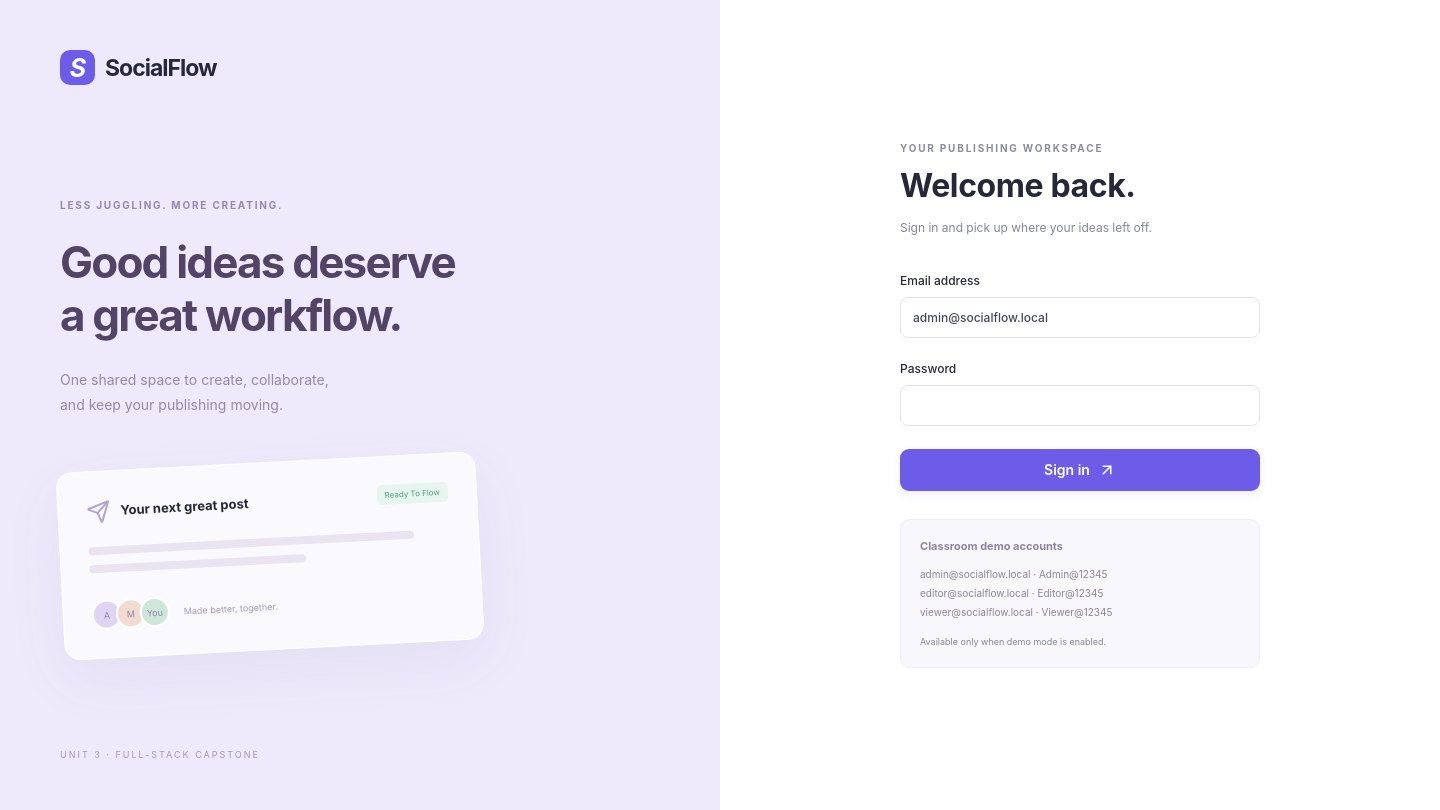
Test: Dashboard workflows › renders calendar, analytics and team navigation
In the password field labelled "Password": (1080, 405) 900,385 -> 1260,426, type "Admin@12345"
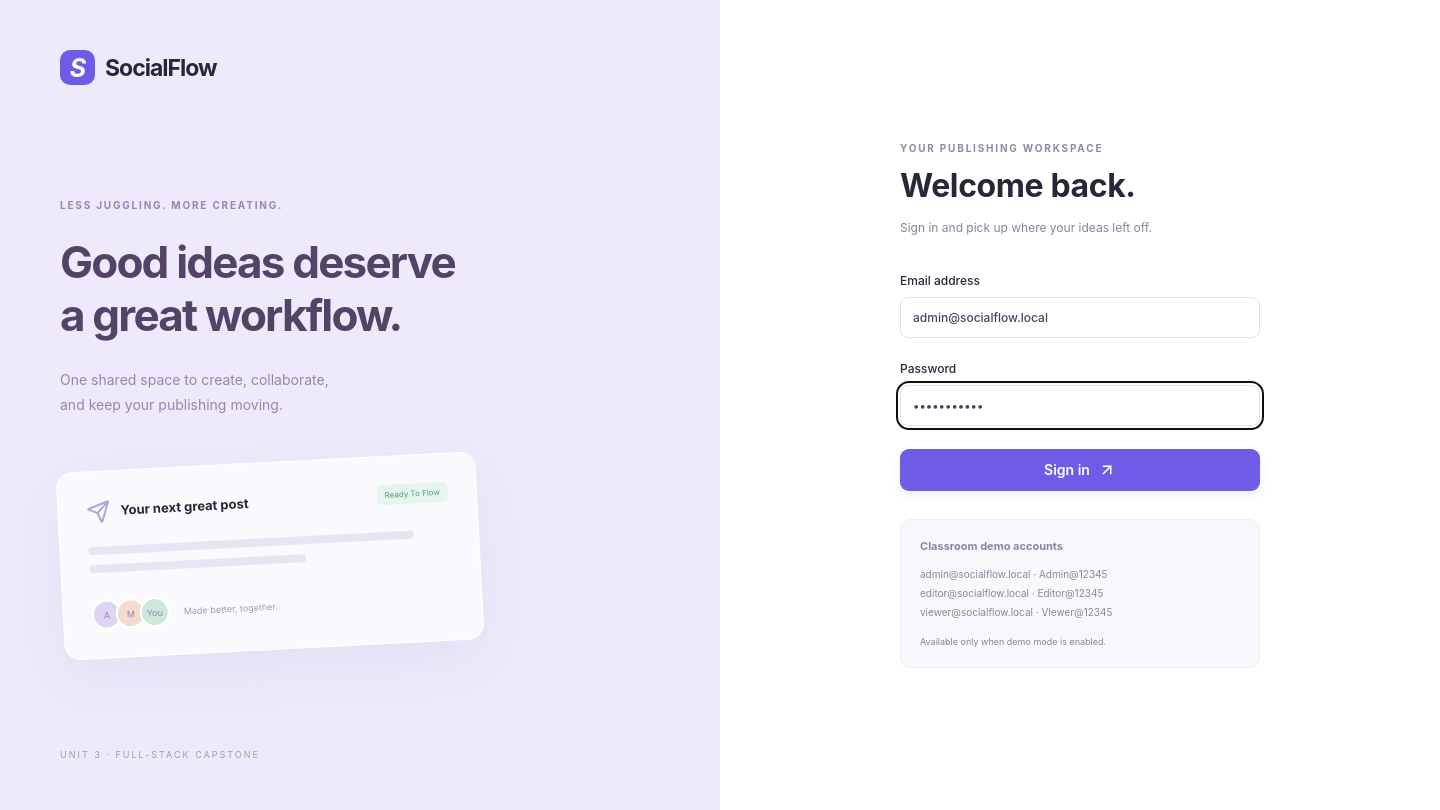
Click the button "Sign in": (1080, 470) 900,449 -> 1260,491
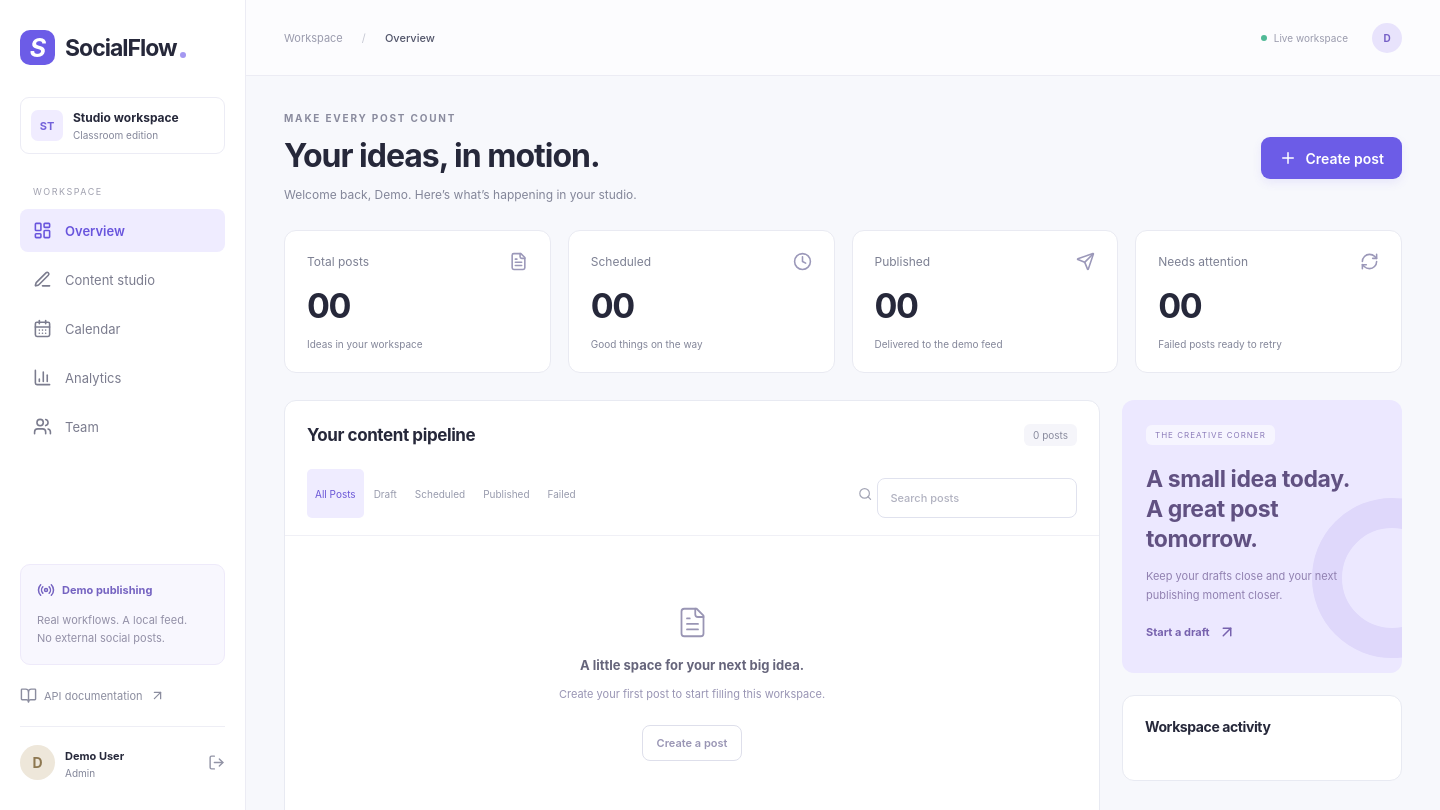
Result: the heading "Your ideas, in motion." is shown at 284,136 -> 637,175
Click the button "Calendar": (122, 328) 20,307 -> 225,350
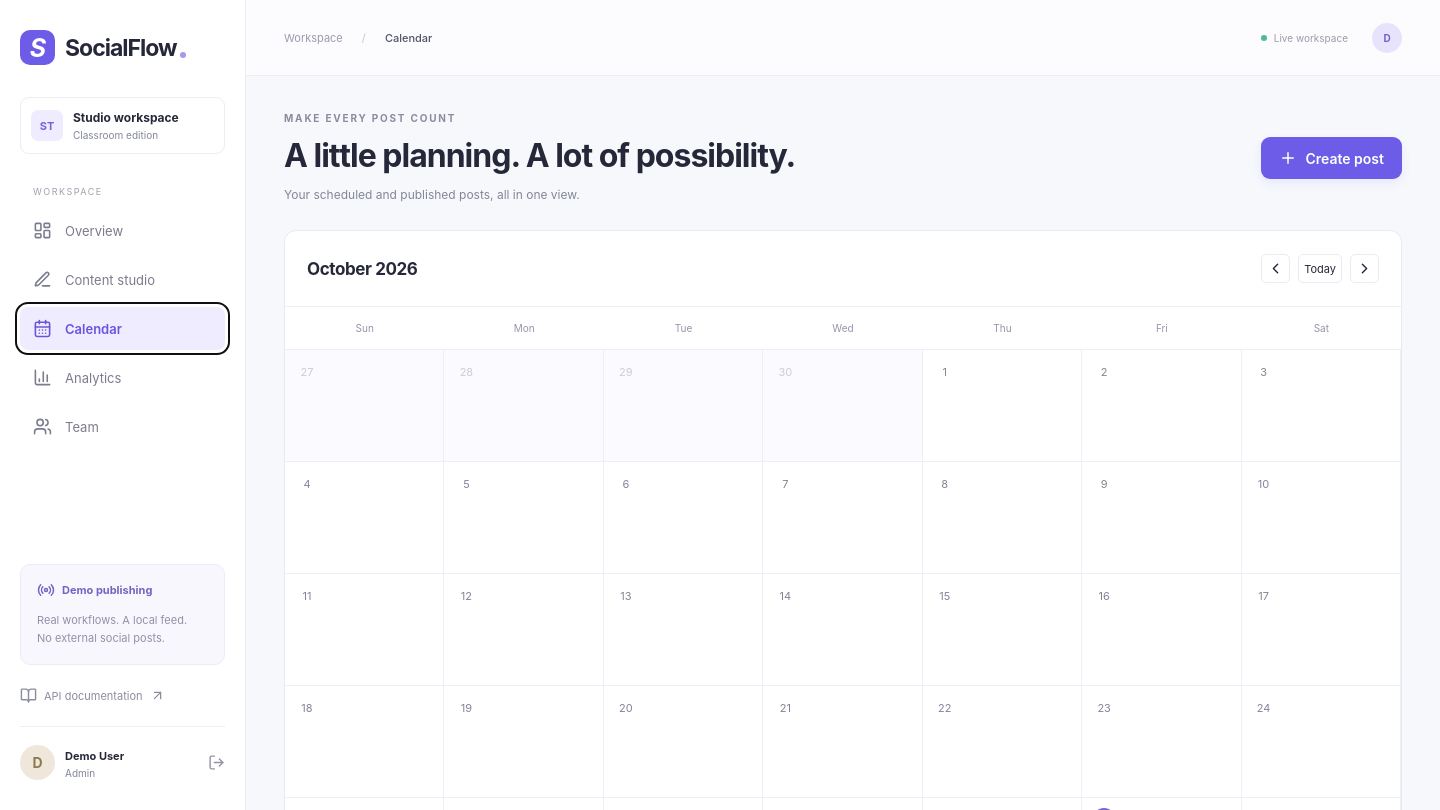
Result: the text "Sun" is shown at 285,306 -> 444,350
Click the button named "Next month": (1364, 269) 1350,254 -> 1379,283
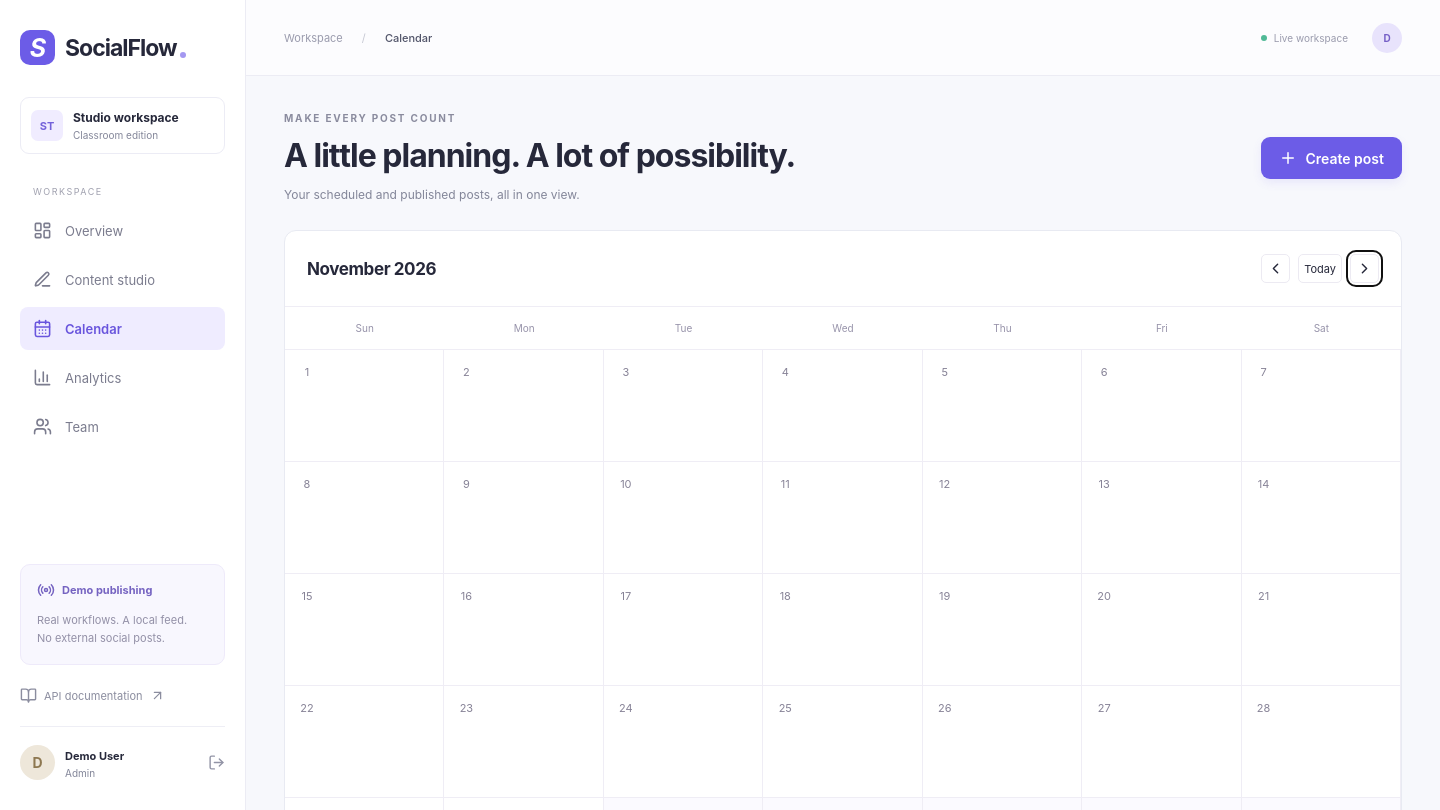
Click the button "Analytics": (122, 378) 20,356 -> 225,399
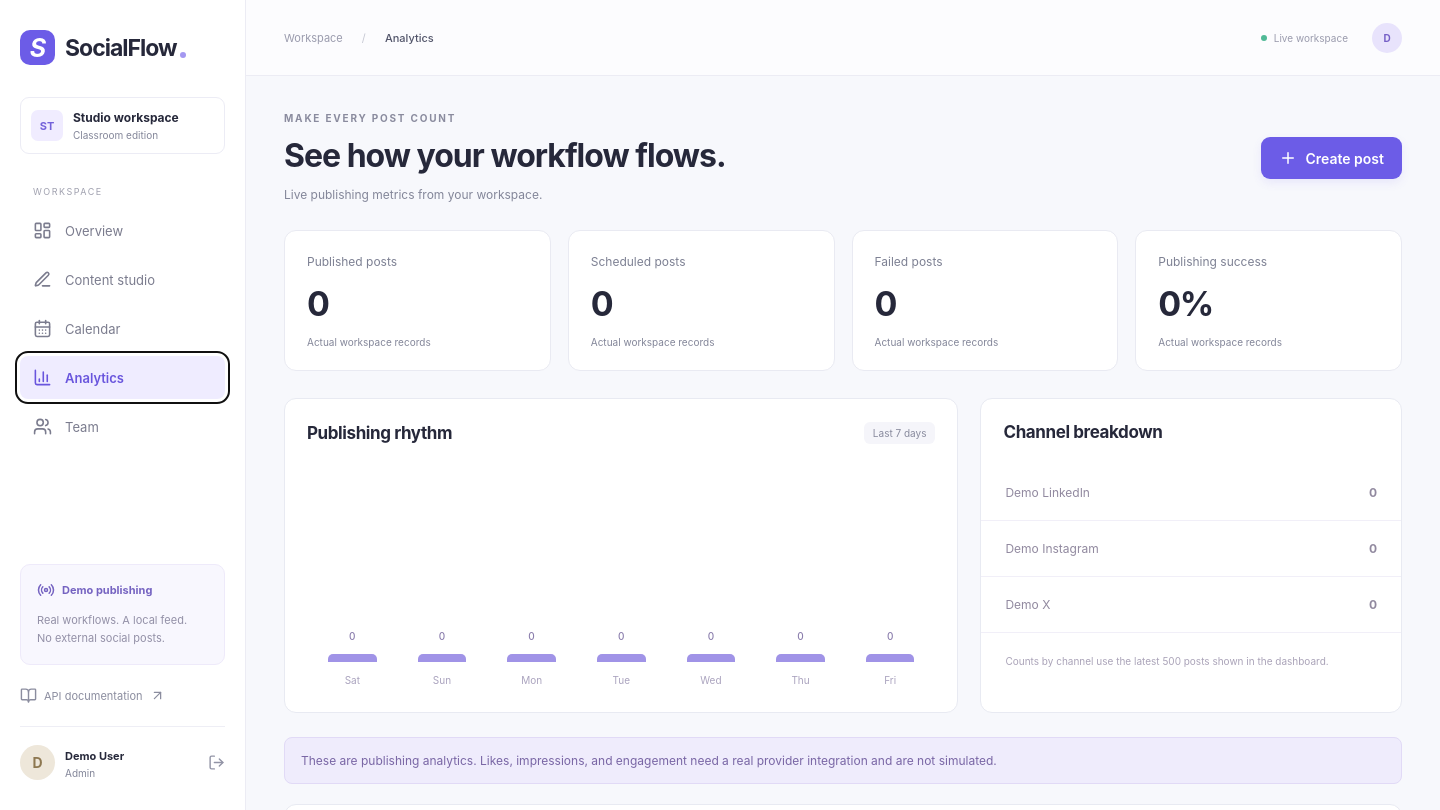
Result: the heading "Publishing rhythm" is shown at 307,423 -> 452,443
Click the button "Team": (122, 426) 20,405 -> 225,448
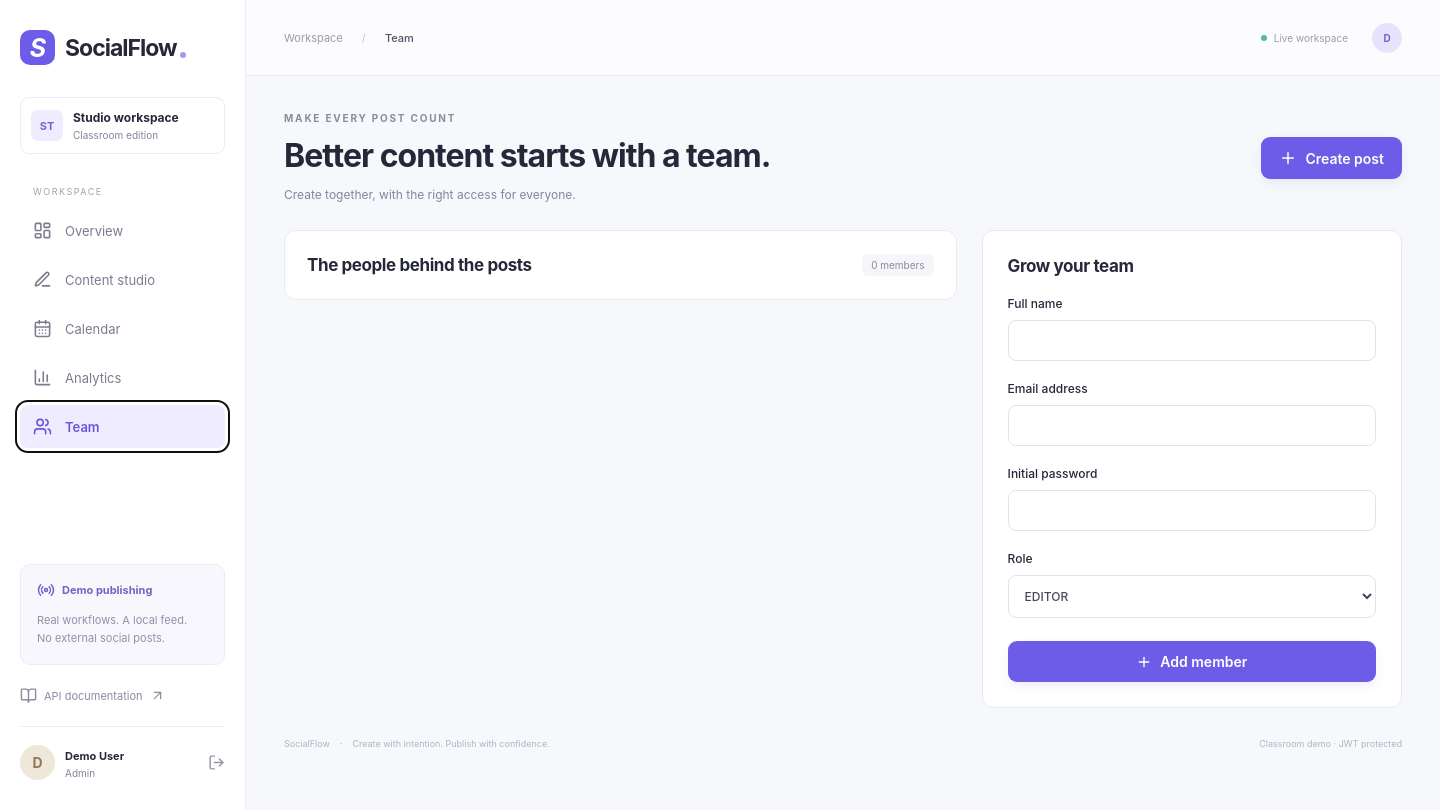
Result: the button "Add member" is shown at 1008,641 -> 1376,682
